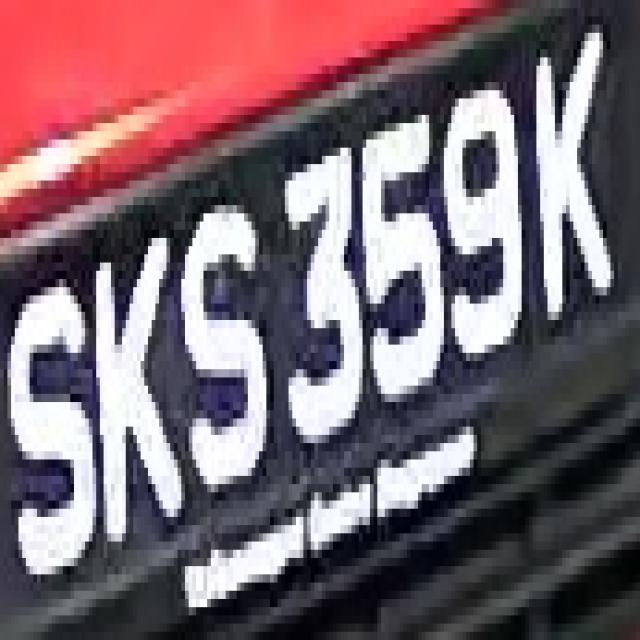3: (270, 132, 363, 460)
5: (359, 82, 444, 427)
9: (429, 74, 525, 394)
K: (85, 238, 185, 533), (526, 58, 622, 328)
S: (170, 189, 270, 492), (4, 262, 96, 582)
